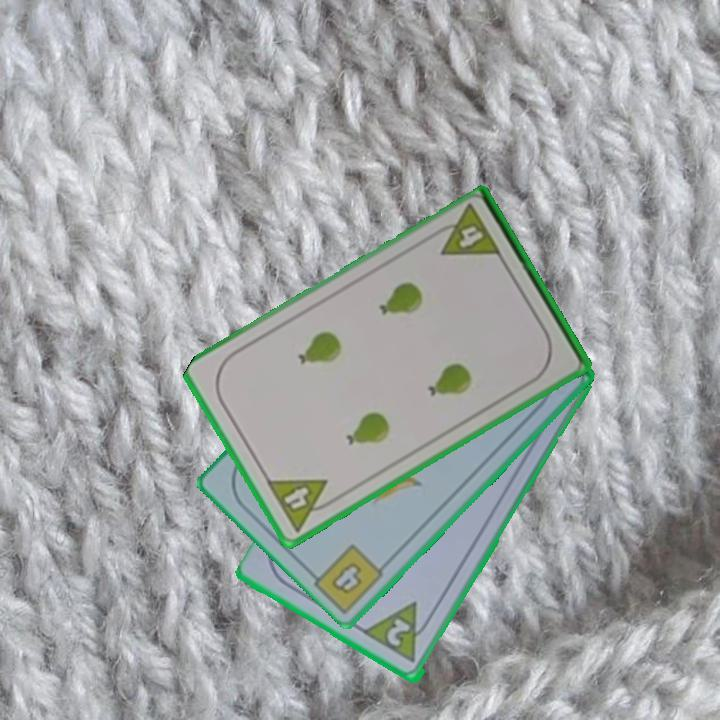2p: (361, 599, 437, 667)
4b: (327, 559, 366, 598)
4p: (263, 475, 341, 535), (428, 202, 505, 261)
